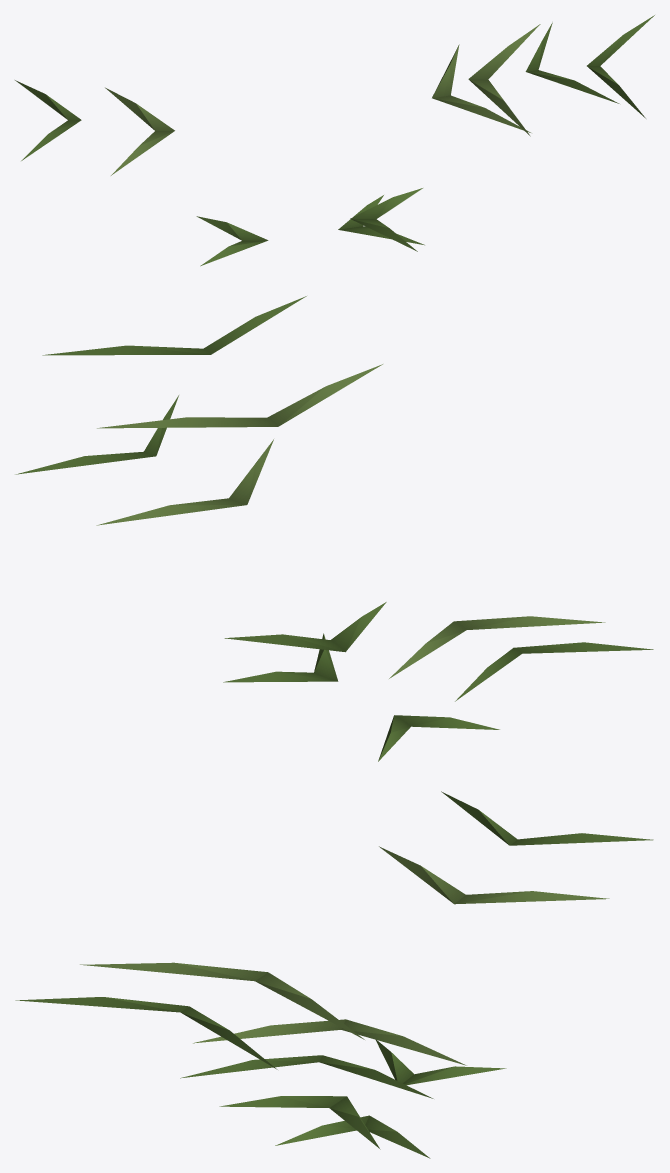
File: woodland_fern_far.gltf
3 renders of one model, top to bottom at view 1: azimuth 30°, elevation 25°; view 2: azimuth 150°, elevation 25°; view 3: azimuth 270°, elevation 25°, orthographic. The views are drawn at different scales.
Visible parts, largest first — view 1: woodland_fern_far; view 2: woodland_fern_far; view 3: woodland_fern_far.
Part boxes in pixels (<box>): woodland_fern_far: <box>15,15,654,266</box>; woodland_fern_far: <box>15,296,653,761</box>; woodland_fern_far: <box>15,791,653,1158</box>.
Size of the model in its own units: 1.36 by 0.4217 by 1.06.
Materials: 2 (2 with a texture image).
